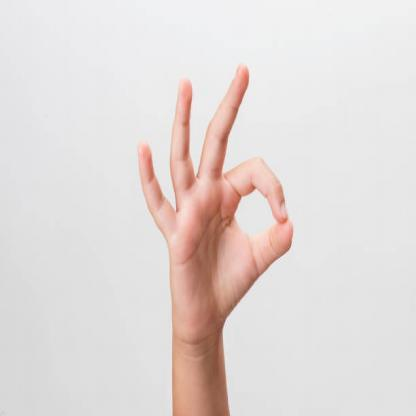ok: (133, 58, 294, 326)
